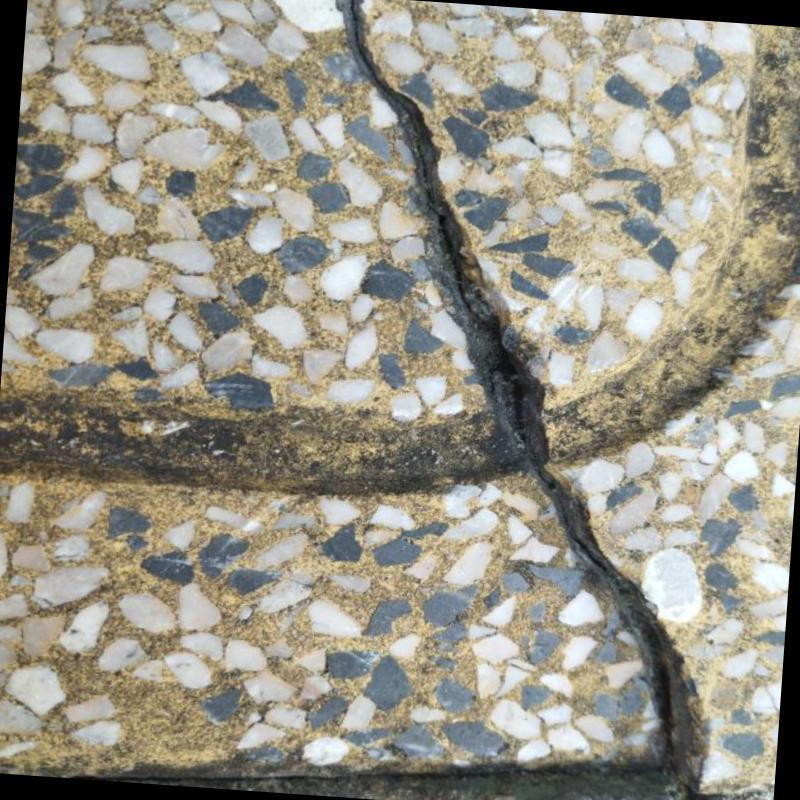pothole: (346, 0, 695, 792)
